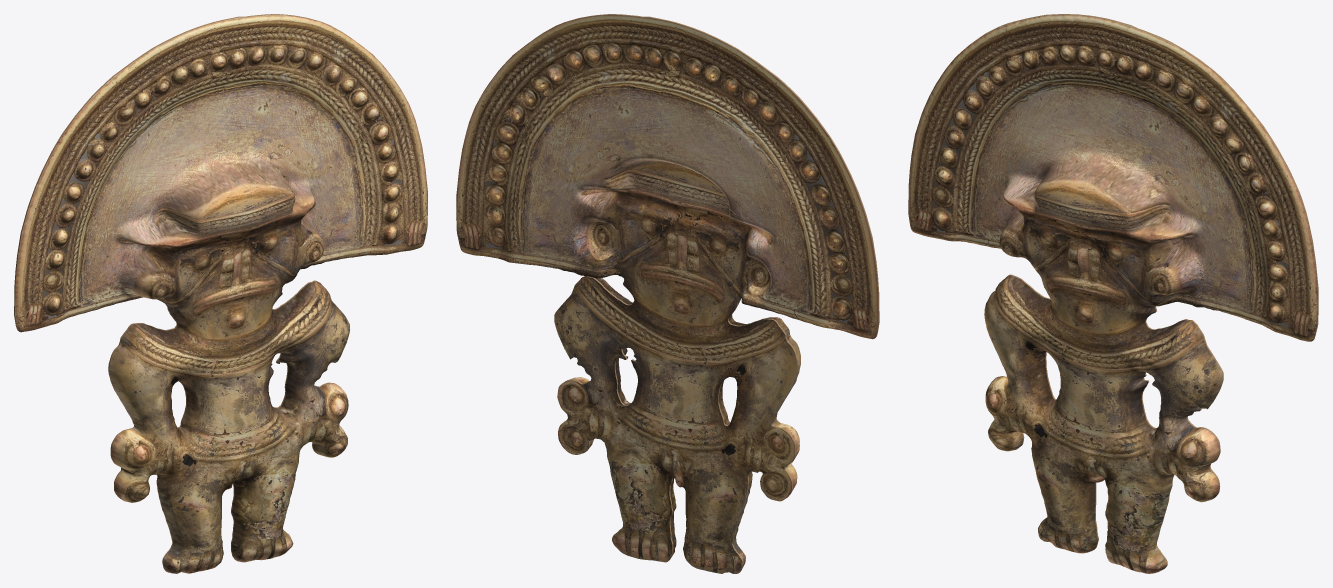
File: colgante_con_figura.glb
3 views of the same model, side by side, from view 1: azimuth 30°, elevation 25°; view 2: azimuth 150°, elevation 25°; view 3: azimuth 330°, elevation 25° (orthographic). The views are drawn at different scales.
Visible parts, largest first — view 1: colgante_con_figura; view 2: colgante_con_figura; view 3: colgante_con_figura.
Part boxes in pixels (box(x1,y1,x2,y2)): colgante_con_figura: box(14, 14, 427, 573); colgante_con_figura: box(456, 14, 879, 573); colgante_con_figura: box(908, 14, 1318, 573).
Size of the model in its own units: 7.91 by 9.88 by 1.17.
Materials: 1 (1 with a texture image).
